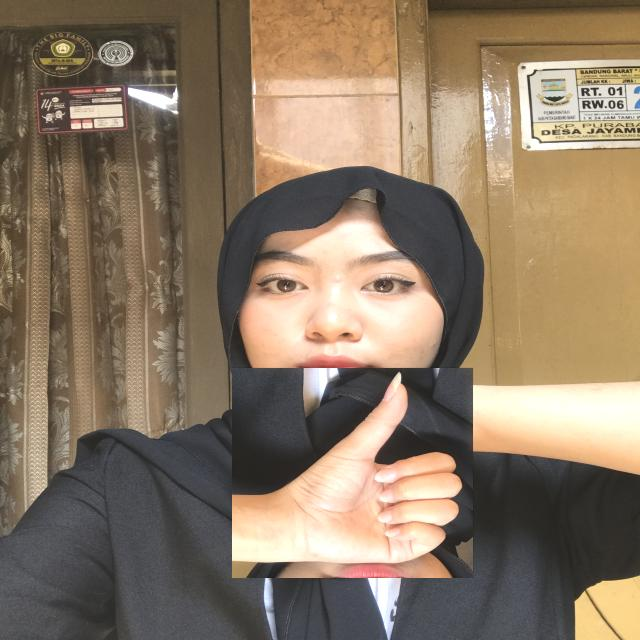sedih: (232, 367, 474, 578)
